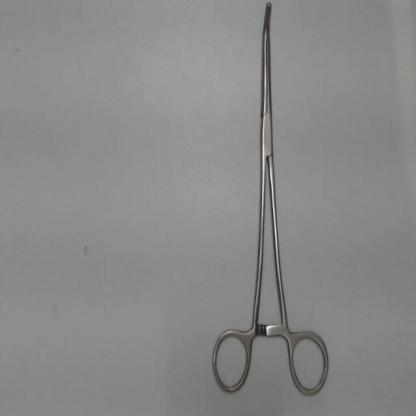Lahey Forceps: (202, 2, 332, 404)
